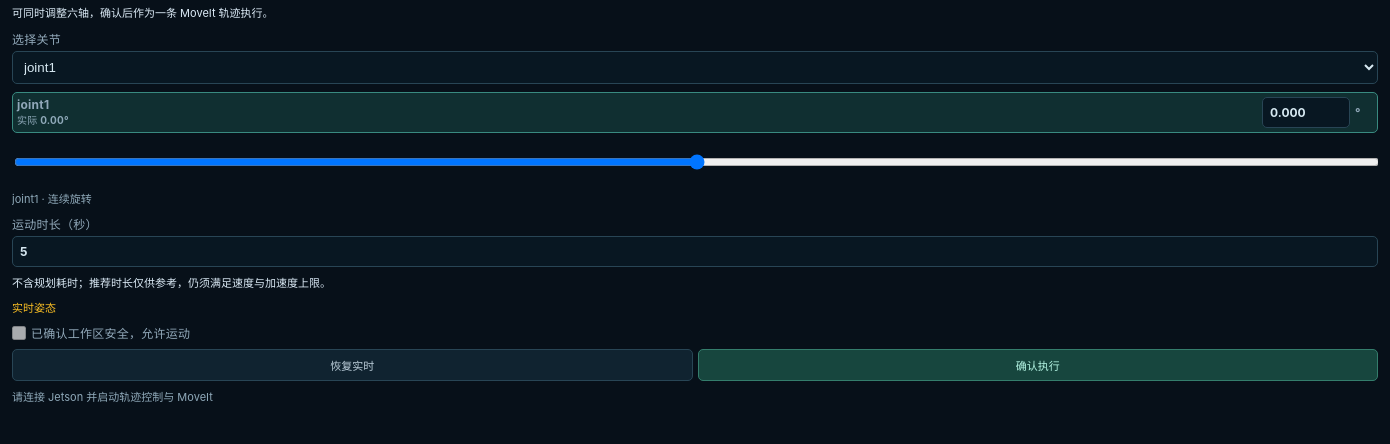
Test: rejects a nonfinite continuous target while keeping the slider range finite
Replace the text in the field named "joint1 目标角度" with "Infinity": {"x": 1306, "y": 112} [1262,96,1350,128]
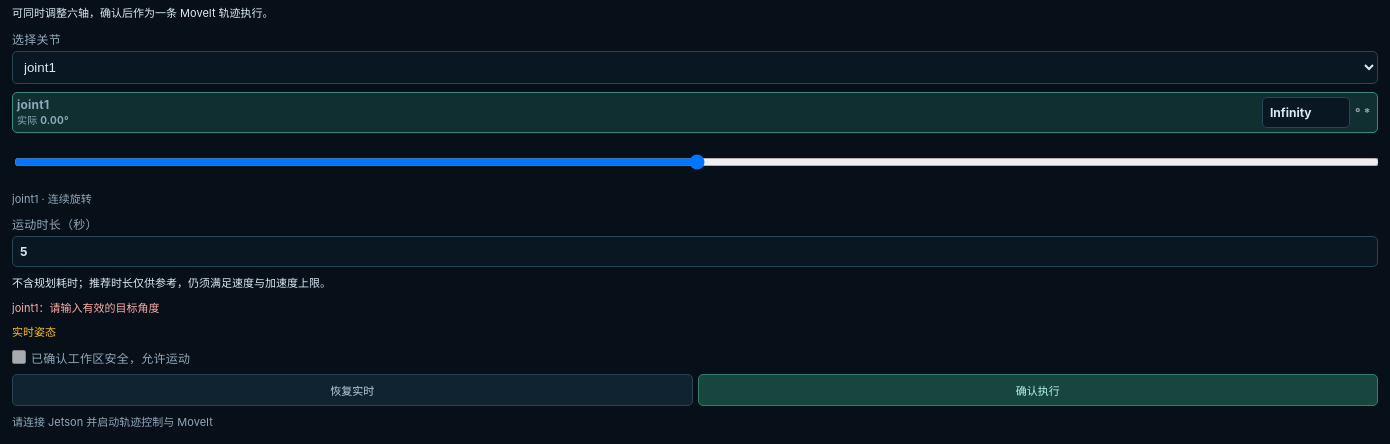
Expected: the button "确认执行" is disabled, [698,374,1378,406]
Expected: the message shows "有效的目标角度", [12,300,160,314]
